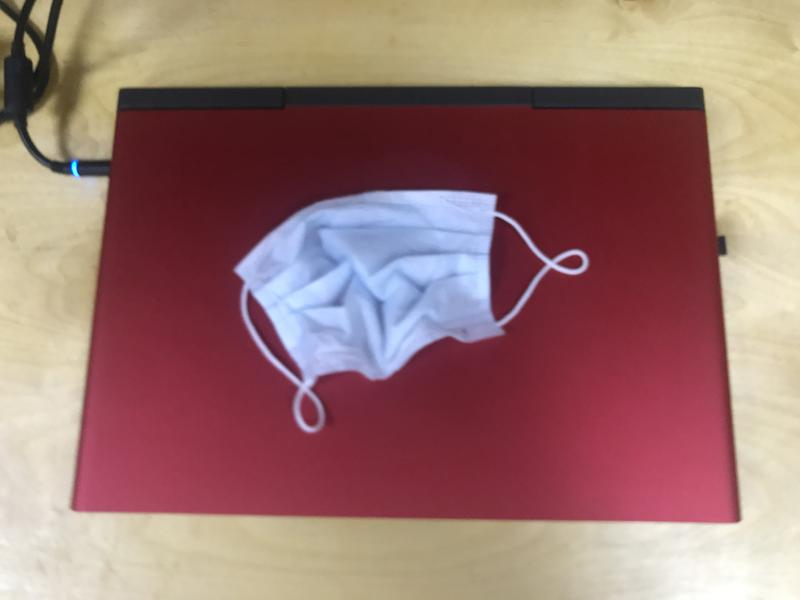medical_mask: (232, 187, 587, 379)
